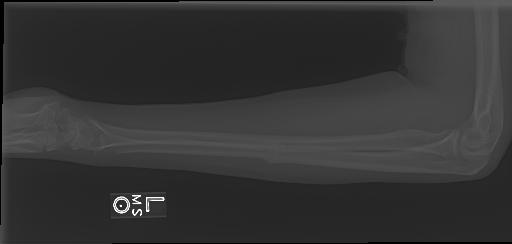forearm fracture: (258, 140, 296, 177)
